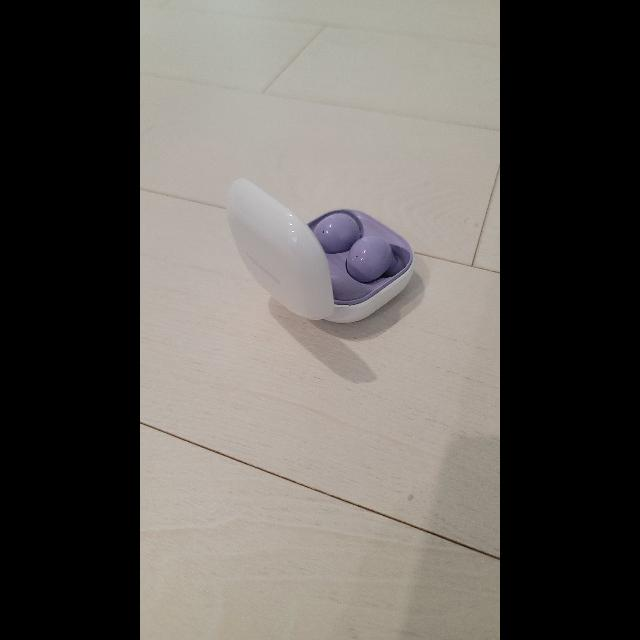GALAXY-BUDS-2: (226, 169, 418, 316)
